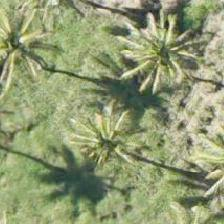Kelapa_Sawit: (64, 105, 154, 195), (124, 0, 214, 89)
